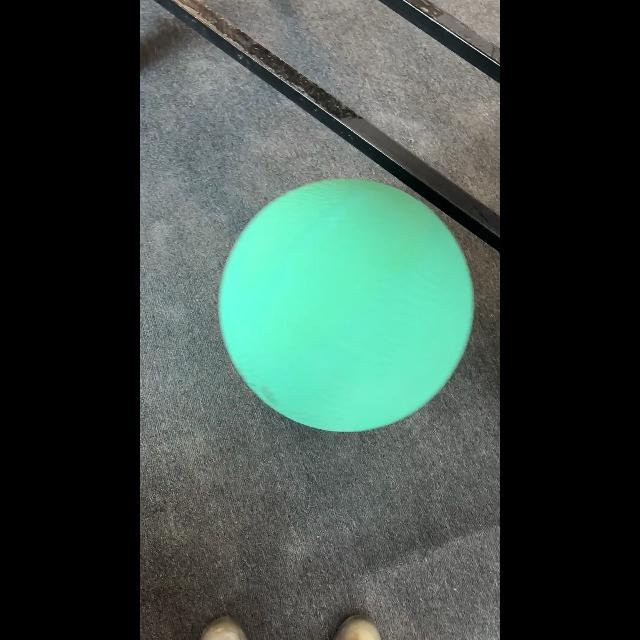ALGAE: (217, 177, 475, 433)
